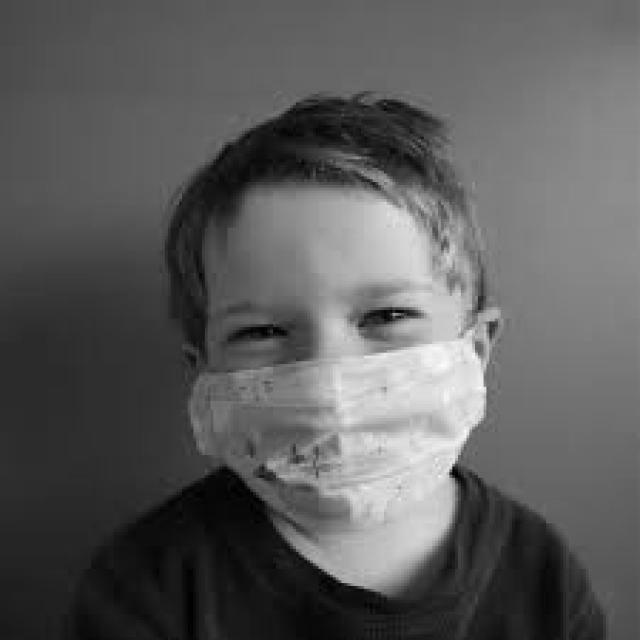fake: (188, 330, 494, 540)
real: (201, 182, 471, 544)
